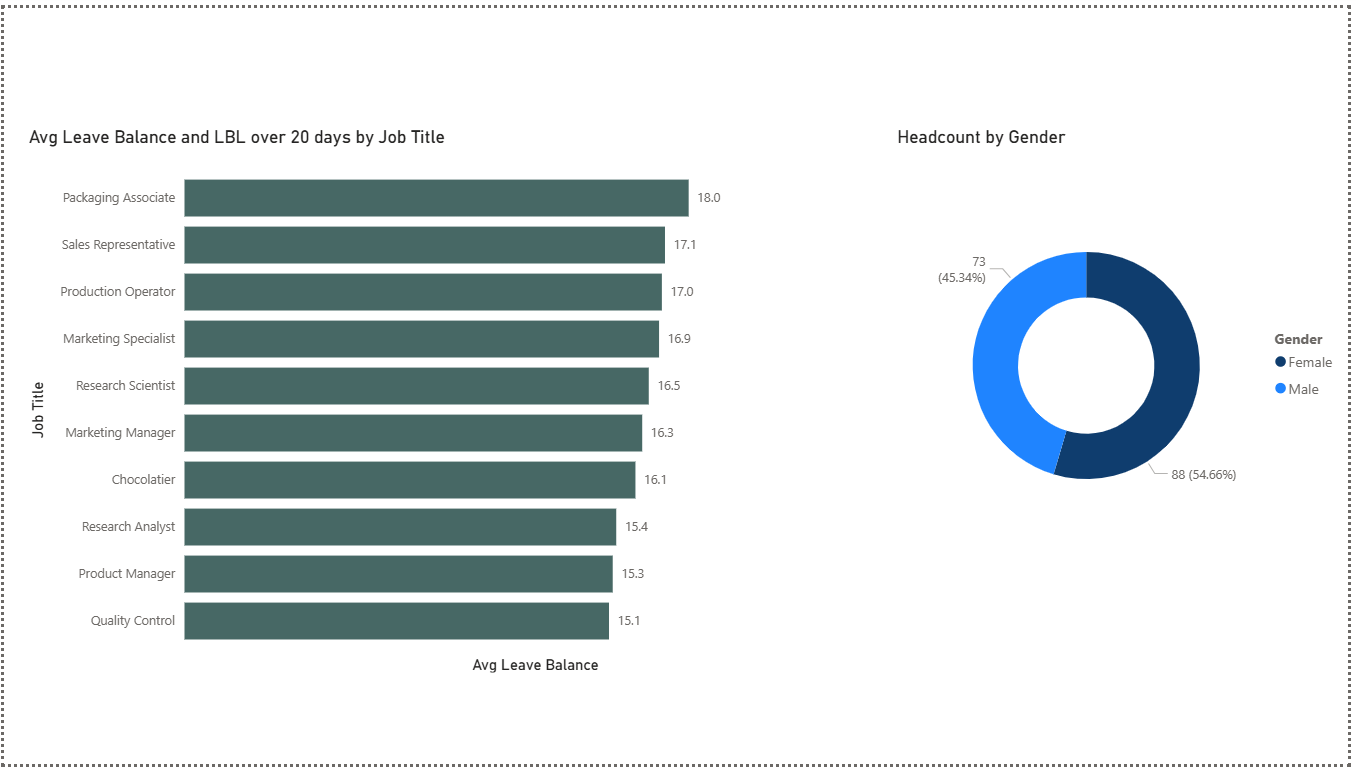

This screenshot's page, from the dashboard's own definition file:
{"tool":"powerbi","page":{"name":"Page 4","canvas":[1280,720],"ordinal":1},"visuals":[{"type":"barChart","fields":{"Category":["staff.Job Title"],"Y":["staff.Avg Leave Balance"]},"box":[18.7,112.2,826.6,524.8],"z":0},{"type":"donutChart","fields":{"Y":["staff.Headcount"],"Category":["staff.Gender"]},"box":[845.3,112.2,435.3,435.3],"z":1000}]}

Visuals, with their boxes in screenshot pixels (x1, y1, x2, y2), scaled from the page's 1280x720 canvas onto the 1356x773 screenshot:
barChart - staff.Job Title x staff.Avg Leave Balance: crop(20, 120, 895, 684)
donutChart - staff.Headcount x staff.Gender: crop(895, 120, 1355, 588)
